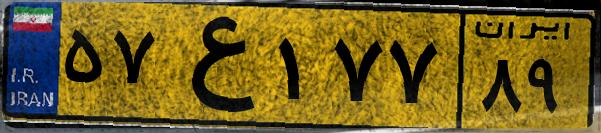1: (270, 28, 330, 110)
5: (57, 26, 110, 100)
7: (385, 28, 445, 110), (330, 28, 385, 110), (110, 28, 158, 98)
8: (475, 38, 525, 113)
9: (525, 38, 570, 115)
ع: (158, 12, 270, 120)
